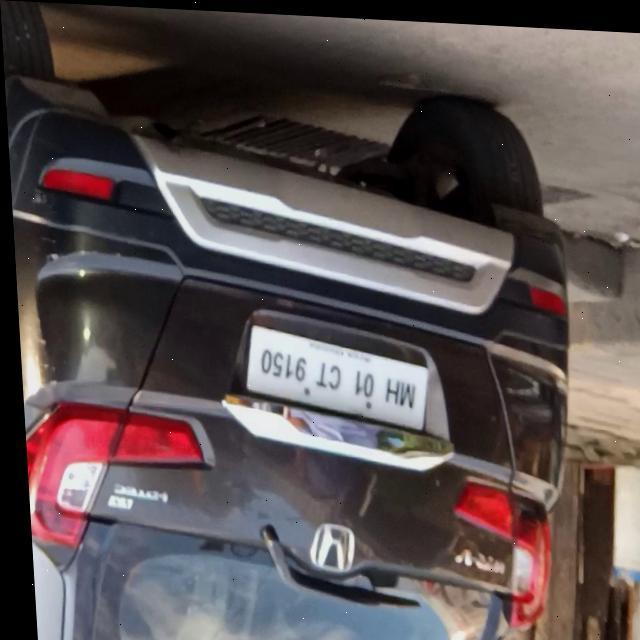plate: (238, 319, 426, 431)
